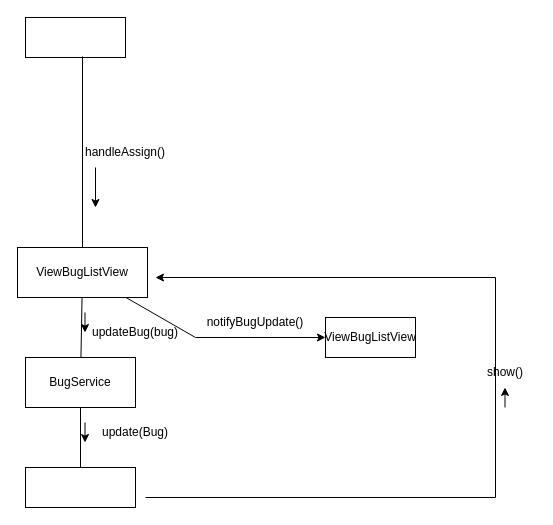
This 553x525 diagram has some shape labels left out. The centre of each missing label's shape, as x and y in pixels:
"DbBugRepo" belongs at point (80, 487).
"Programmer" belongs at point (75, 37).
